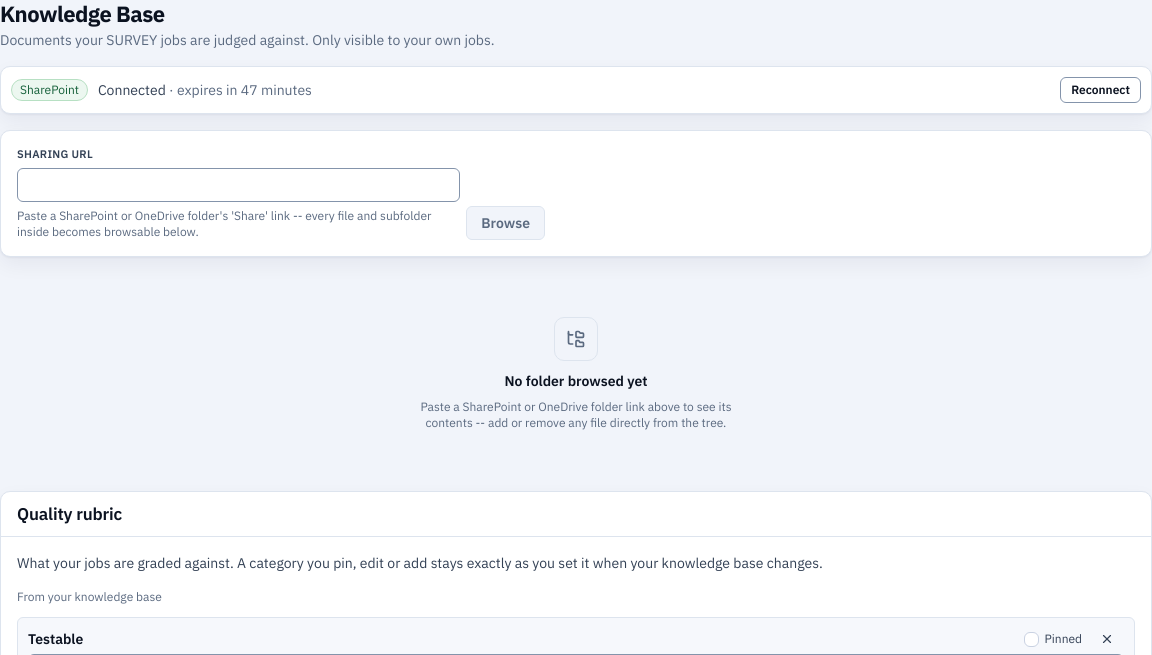
Test case: KnowledgeBase › three-pane explorer (DESIGN.md Track B, phase B10) › keeps the detail pane in sync after ingesting a file from the center-pane row action
The image size is (1152, 655).
Type "https://share.example/folder" into the field labelled "Sharing URL".
click(239, 185); type("https://share.example/folder")  # box [17,168,460,202]
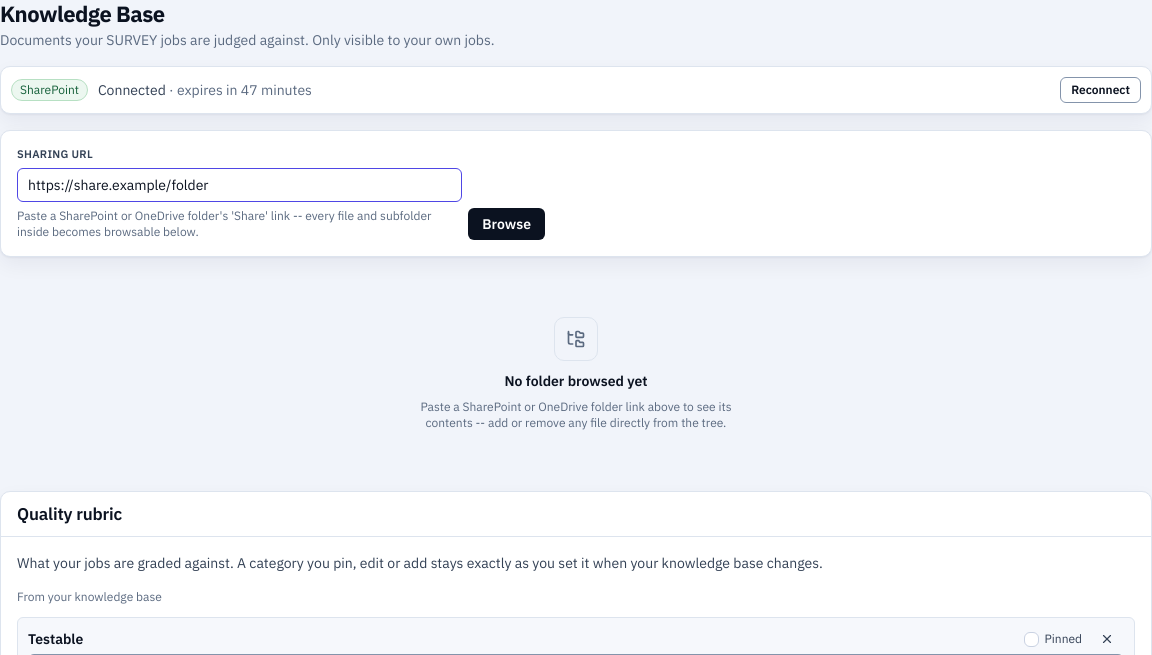
Click the button "Browse".
click(507, 224)  # box [468,208,545,240]
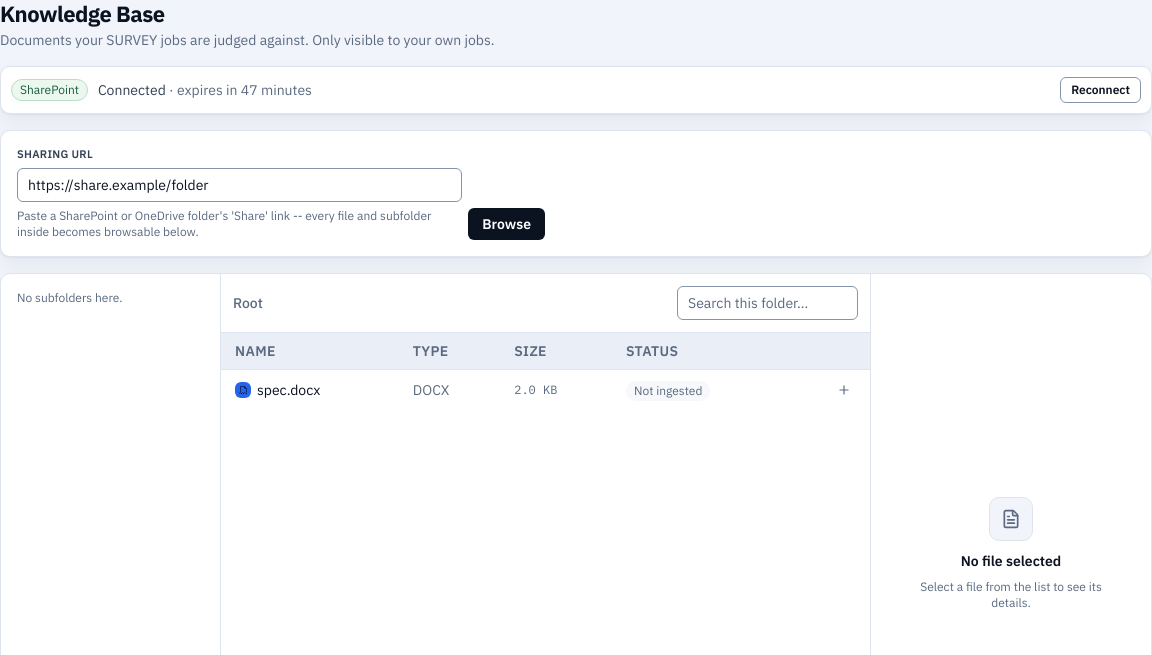
Expected: the text "spec.docx" is shown, [257,380,320,400]
Click the text "spec.docx".
click(546, 390)  # box [221,370,870,410]
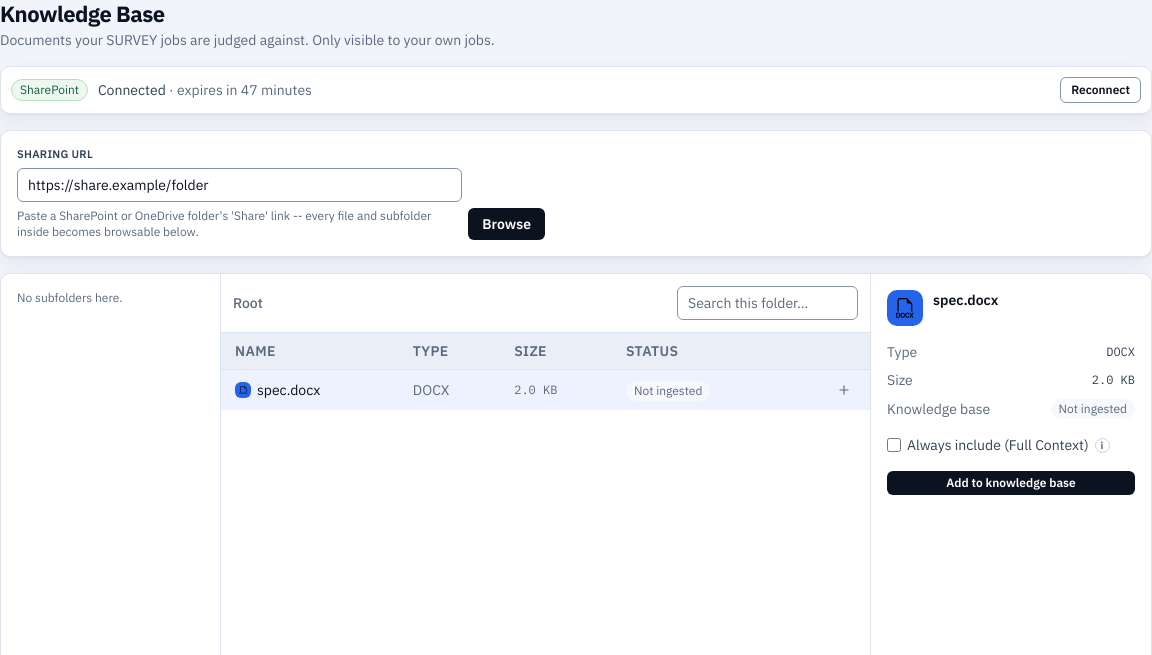
Expected: the button "Add to knowledge base" is shown, [887,471,1135,495]
The row action (not the detail pane's own button) is what ingests here.
Click the button named "add spec.docx to the knowledge base".
click(844, 390)  # box [832,378,856,402]
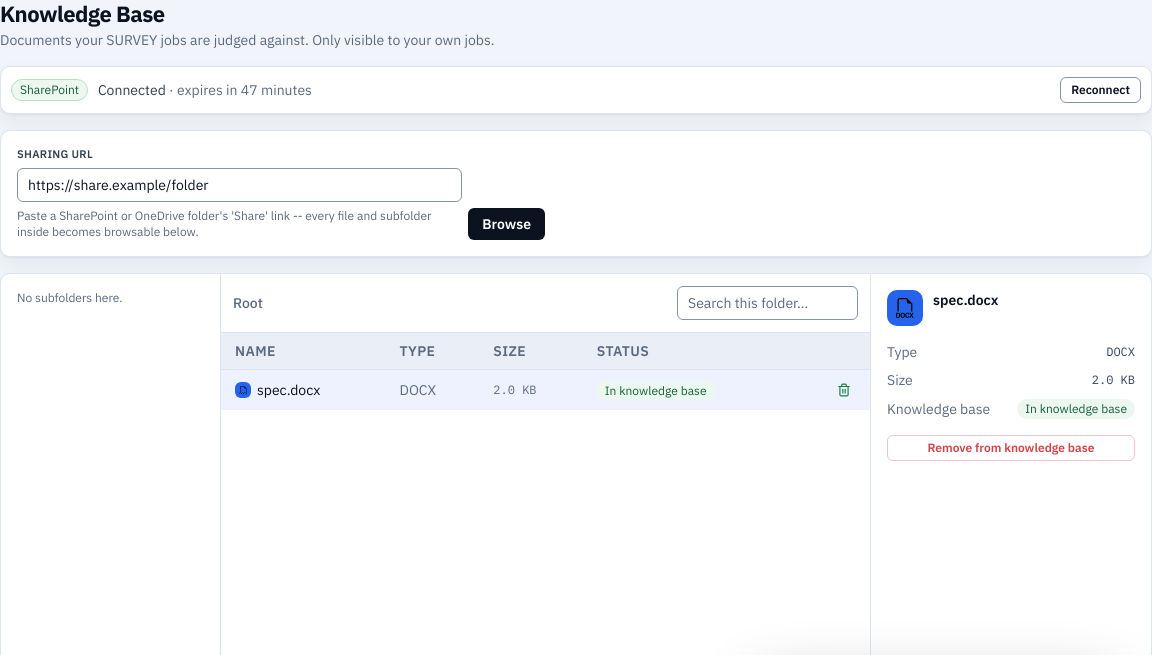
Expected: the button "Remove from knowledge base" is shown, [887,435,1135,461]
